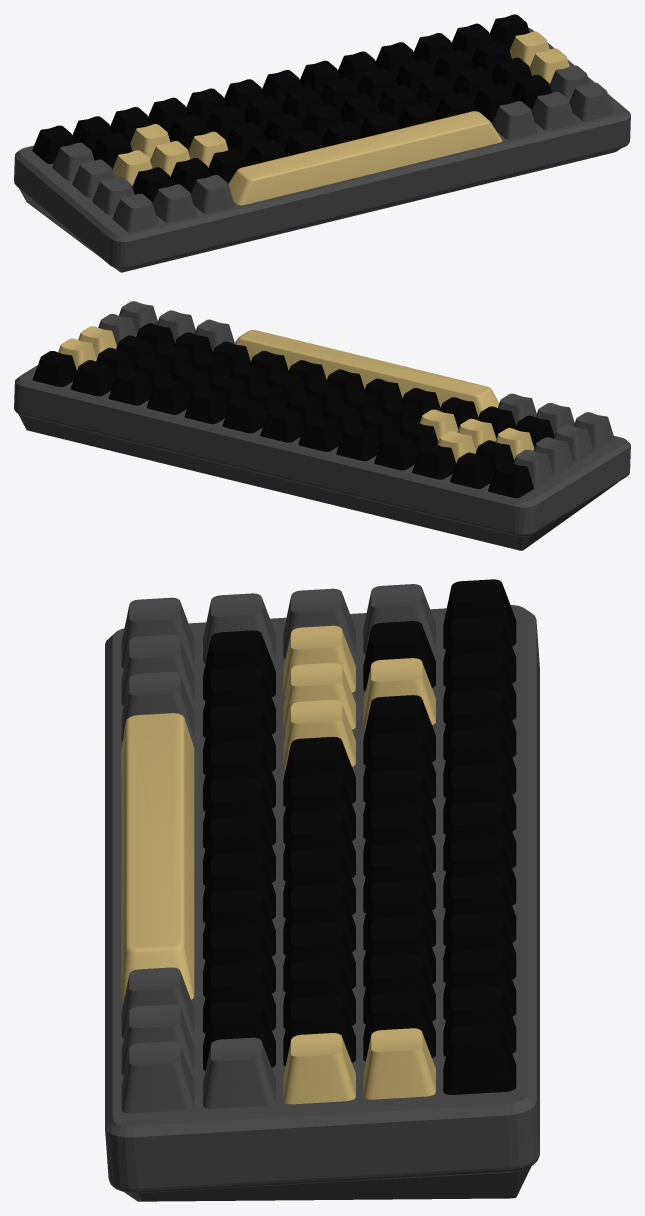
The model's file is Teclado.fbx.
The picture shows the model from 3 angles, top to bottom: view 1: azimuth 30°, elevation 25°; view 2: azimuth 150°, elevation 25°; view 3: azimuth 270°, elevation 25°; orthographic projection. The views are drawn at different scales.
Visible parts, largest first — view 1: Teclas.060, Teclas.011, Teclas.003, Teclas.007, Teclas.006, Teclas.004, Teclas.008, Teclas.005, Teclas.001, Teclas.059, Teclas.009, Teclas.027 (+48 smaller); view 2: Teclas.060, Teclas.011, Teclas.059, Teclas.028, Teclas.029, Teclas.021, Teclas.023, Teclas.019, Teclas.022, Teclas.024, Teclas.026, Teclas.018 (+48 smaller); view 3: Teclas.060, Teclas.011, Teclas.006, Teclas.030, Teclas.002, Teclas.013, Teclas.016, Teclas.005, Teclas.007, Teclas.008, Teclas.004, Teclas.018 (+48 smaller).
Part boxes in pixels (left/top/right/bottom): Teclas.060: left=14, top=28, right=630, bottom=272; Teclas.011: left=228, top=111, right=502, bottom=205; Teclas.003: left=112, top=193, right=158, bottom=232; Teclas.007: left=492, top=101, right=537, bottom=139; Teclas.006: left=569, top=82, right=613, bottom=121; Teclas.004: left=152, top=184, right=196, bottom=223; Teclas.008: left=531, top=92, right=575, bottom=130; Teclas.005: left=190, top=175, right=234, bottom=213; Teclas.001: left=92, top=176, right=134, bottom=214; Teclas.059: left=32, top=125, right=74, bottom=163; Teclas.009: left=52, top=142, right=94, bottom=180; Teclas.027: left=72, top=159, right=114, bottom=197; Teclas.060: left=14, top=365, right=630, bottom=550; Teclas.011: left=234, top=330, right=499, bottom=416; Teclas.059: left=488, top=462, right=533, bottom=498; Teclas.028: left=108, top=369, right=152, bottom=405; Teclas.029: left=70, top=360, right=114, bottom=396; Teclas.021: left=336, top=425, right=380, bottom=461; Teclas.023: left=260, top=406, right=304, bottom=442; Teclas.019: left=412, top=443, right=456, bottom=479; Teclas.022: left=298, top=415, right=342, bottom=451; Teclas.024: left=222, top=397, right=266, bottom=433; Teclas.026: left=146, top=378, right=190, bottom=414; Teclas.018: left=450, top=452, right=494, bottom=488; Teclas.060: left=105, top=605, right=539, bottom=1201; Teclas.011: left=121, top=713, right=194, bottom=1002; Teclas.006: left=121, top=1041, right=194, bottom=1113; Teclas.030: left=443, top=1023, right=516, bottom=1094; Teclas.002: left=203, top=1037, right=275, bottom=1108; Teclas.013: left=363, top=1028, right=435, bottom=1099; Teclas.016: left=283, top=1033, right=355, bottom=1104; Teclas.005: left=121, top=671, right=194, bottom=741; Teclas.007: left=121, top=967, right=194, bottom=1038; Teclas.008: left=121, top=1004, right=194, bottom=1075; Teclas.004: left=121, top=634, right=194, bottom=705; Teclas.018: left=443, top=616, right=516, bottom=686.
Bounding box in the file's own units: 3285 × 445 × 1193.
